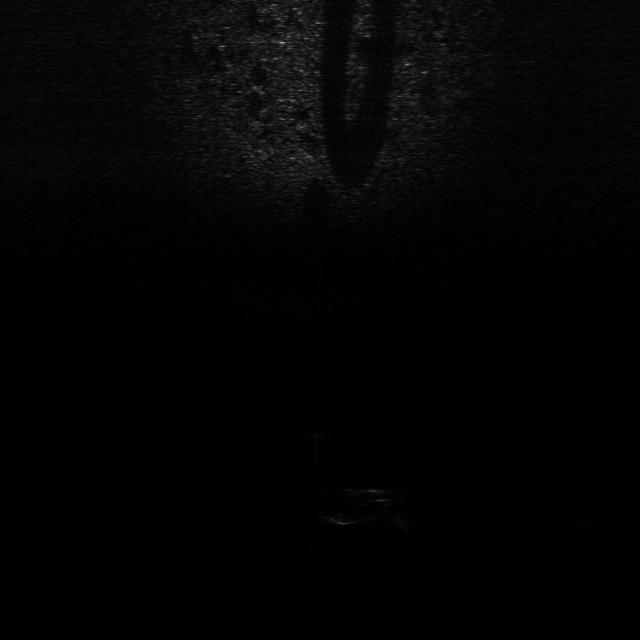ball: (301, 415, 333, 440)
tyre: (321, 485, 397, 530)
